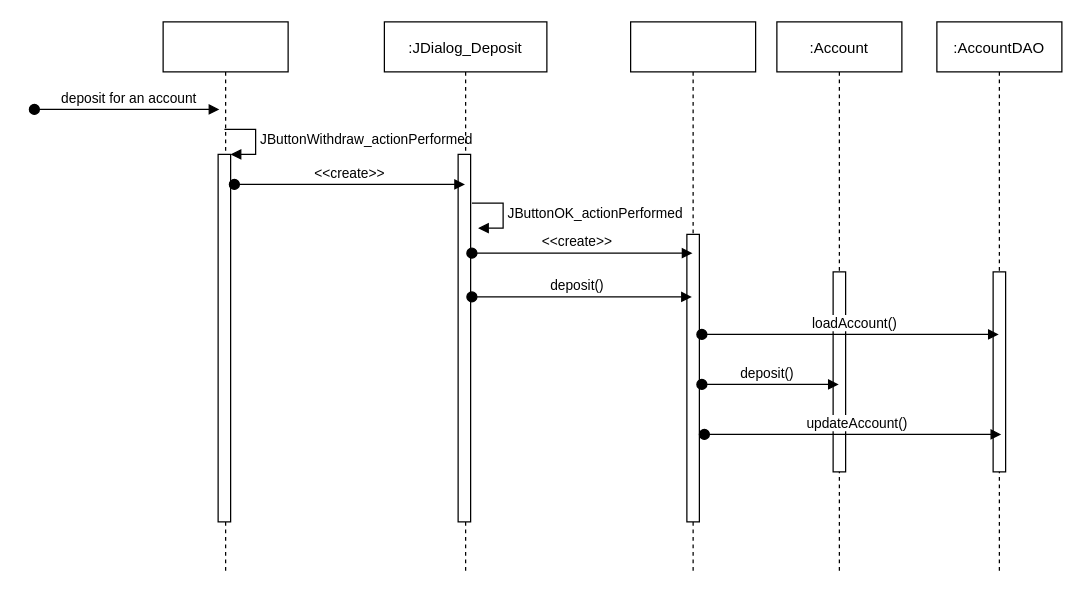
Image size: 1084x594. Some labels were removed from this diagram. The box of each missing label's shape, as (x1, y1, x2, y2) in pixels:
:AccountService: (629, 21, 756, 572)
:BankFrm: (162, 21, 288, 572)
